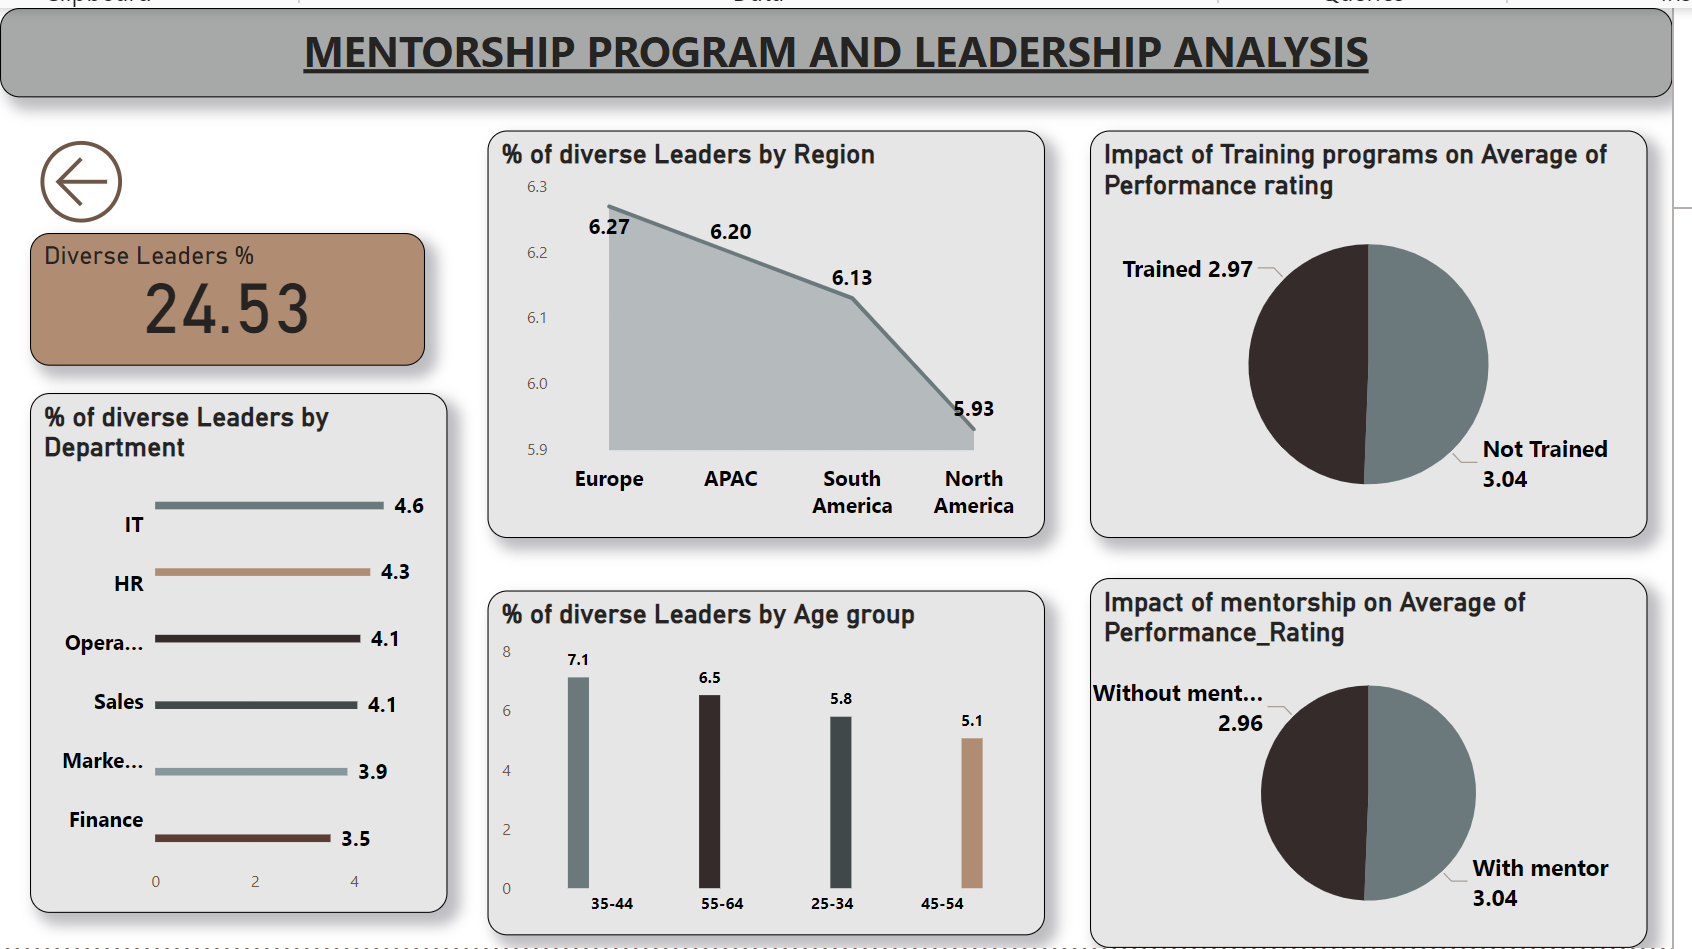

This screenshot's page, from the dashboard's own definition file:
{"tool":"powerbi","page":{"name":"Mentorship program and Leadership analysis","canvas":[1280,720],"ordinal":7},"visuals":[{"type":"pieChart","title":"Impact of mentorship on Average of Performance_Rating","fields":{"Category":["SP data.Mentor had or not"],"Y":["Avg(SP data.Performance_Rating)"]},"box":[834.5,436.4,426.8,283.3],"z":0},{"type":"pieChart","title":"Impact of Training programs on Average of Performance rating","fields":{"Y":["Avg(SP data.Performance_Rating)"],"Category":["SP data.Training done or not"]},"box":[834.5,93.8,426.8,312],"z":1000},{"type":"card","title":"Diverse Leaders %","fields":{"Values":["SP data.% of diverse Leaders fixed"]},"box":[23,172.2,302.4,101.4],"z":2000},{"type":"clusteredColumnChart","title":"% of diverse Leaders  by Age group","fields":{"Category":["SP data.Age_Group"],"Y":["SP data.% of diverse Leaders fixed"],"Series":["SP data.Age_Group"]},"box":[373.2,445.9,426.8,264.1],"z":3000},{"type":"areaChart","title":"% of diverse Leaders  by Region","fields":{"Category":["SP data.Region"],"Y":["SP data.% of diverse Leaders fixed"]},"box":[373.2,93.8,426.8,312],"z":4000},{"type":"clusteredBarChart","title":"% of diverse Leaders  by Department","fields":{"Y":["SP data.% of diverse Leaders fixed"],"Category":["SP data.Department"],"Series":["SP data.Department"]},"box":[23,294.7,319.6,398.1],"z":5000},{"type":"actionButton","box":[23,93.8,141.6,78.5],"z":6000},{"type":"textbox","box":[0,0,1280.4,68.3],"z":7000}]}

Visuals, with their boxes in screenshot pixels (x1, y1, x2, y2):
"Impact of mentorship on Average of Performance_Rating" pieChart: [x1=1083, y1=571, x2=1637, y2=938]
"Impact of Training programs on Average of Performance rating" pieChart: [x1=1083, y1=126, x2=1637, y2=531]
"Diverse Leaders %" card: [x1=30, y1=228, x2=422, y2=359]
"% of diverse Leaders  by Age group" clusteredColumnChart: [x1=484, y1=583, x2=1038, y2=926]
"% of diverse Leaders  by Region" areaChart: [x1=484, y1=126, x2=1038, y2=531]
"% of diverse Leaders  by Department" clusteredBarChart: [x1=30, y1=387, x2=445, y2=903]
actionButton: [x1=30, y1=126, x2=214, y2=228]
textbox: [x1=0, y1=4, x2=1661, y2=93]
